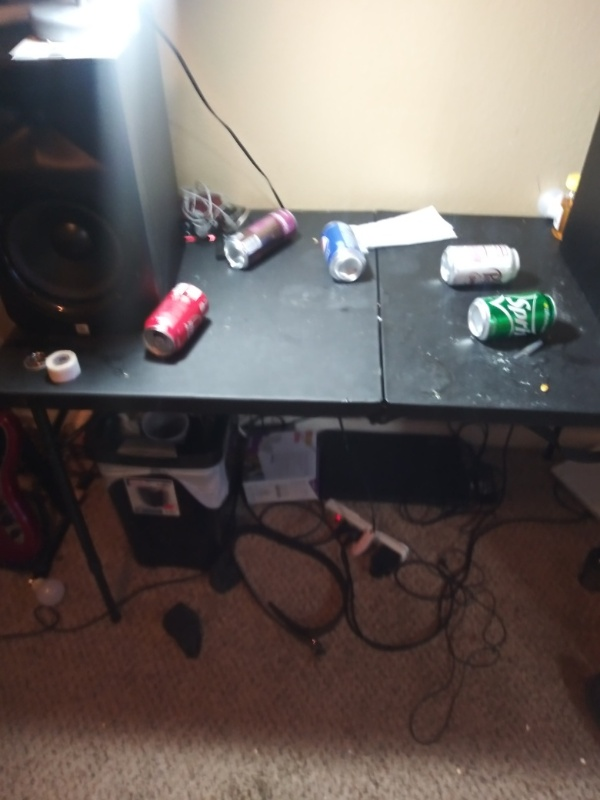can: (140, 281, 213, 361), (465, 289, 562, 345), (222, 207, 303, 273), (436, 242, 526, 288), (318, 218, 369, 286)
